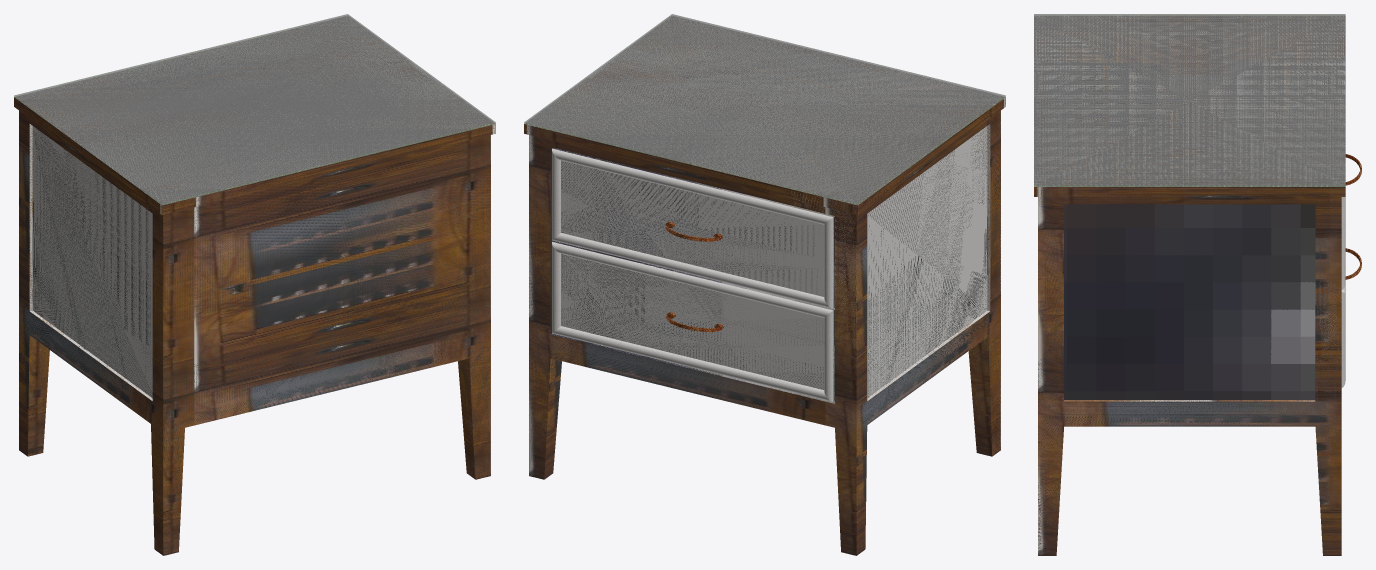
3 renders of one model, left to right at view 1: azimuth 30°, elevation 25°; view 2: azimuth 150°, elevation 25°; view 3: azimuth 270°, elevation 25°, orthographic. The views are drawn at different scales.
Parts seen in each view (by area): view 1: mesh5_mesh5-geometry, mesh1_mesh1-geometry; view 2: mesh5_mesh5-geometry, mesh1_mesh1-geometry; view 3: mesh5_mesh5-geometry, mesh1_mesh1-geometry.
Boxes of the visible parts, box(x1,y1,x2,y2) form: mesh5_mesh5-geometry: box(14, 16, 495, 555); mesh1_mesh1-geometry: box(14, 14, 495, 205); mesh5_mesh5-geometry: box(524, 16, 1005, 555); mesh1_mesh1-geometry: box(524, 14, 1005, 205); mesh5_mesh5-geometry: box(1034, 15, 1345, 555); mesh1_mesh1-geometry: box(1034, 14, 1345, 186).
Bounding box in the file's own units: 0.6106 × 0.619 × 0.4939.
